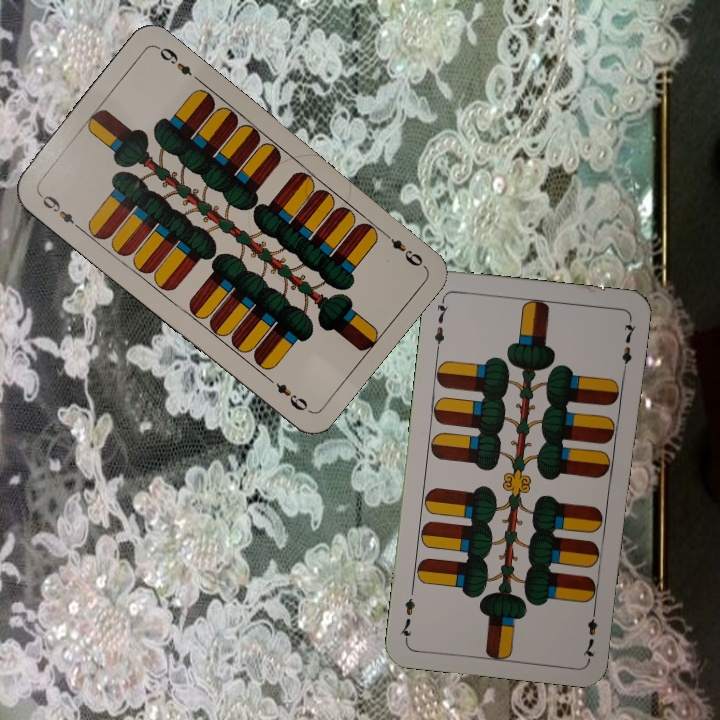E7: (579, 602, 600, 662), (430, 294, 451, 353)
E9: (35, 189, 84, 232), (378, 226, 426, 269)
